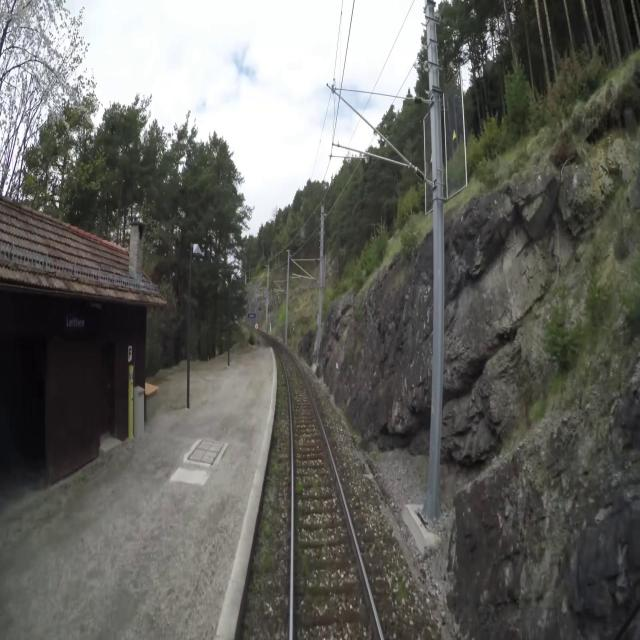rail-track: (277, 346, 379, 639)
